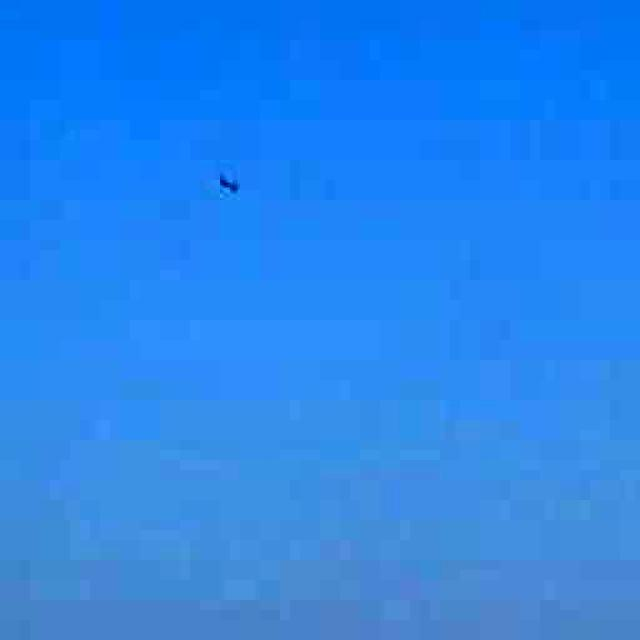bird: (195, 160, 258, 210)
